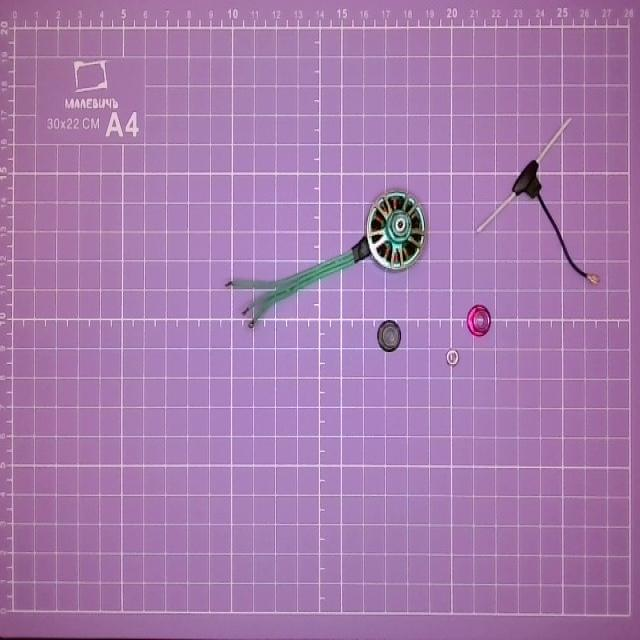antenna: (475, 119, 601, 286)
motor: (222, 186, 427, 319)
screw_M3: (444, 343, 460, 374)
screw_M5: (372, 318, 407, 355), (467, 304, 491, 340)
